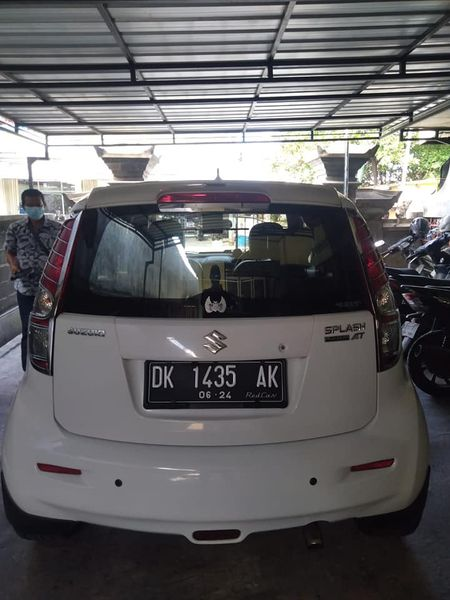plate: (142, 356, 295, 415)
